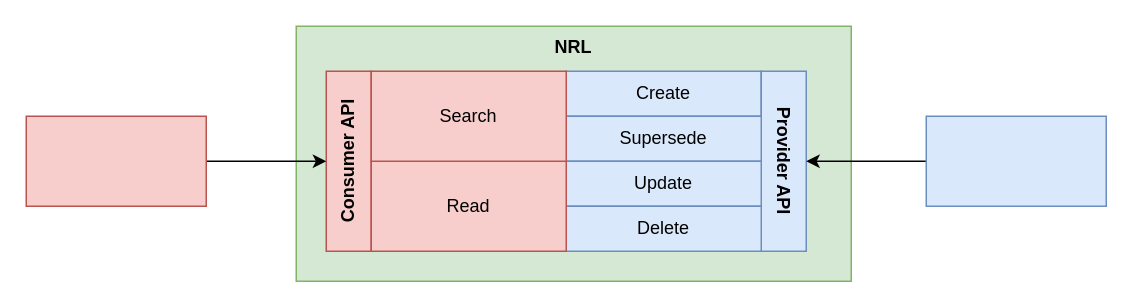
The diagram is 1133 pixels wide and 308 high, and some of its shapes have lost their labels. Each missing label, with the centre of its shape:
"Consumer application" belongs at (x=115, y=160).
"Provider application" belongs at (x=1015, y=160).
